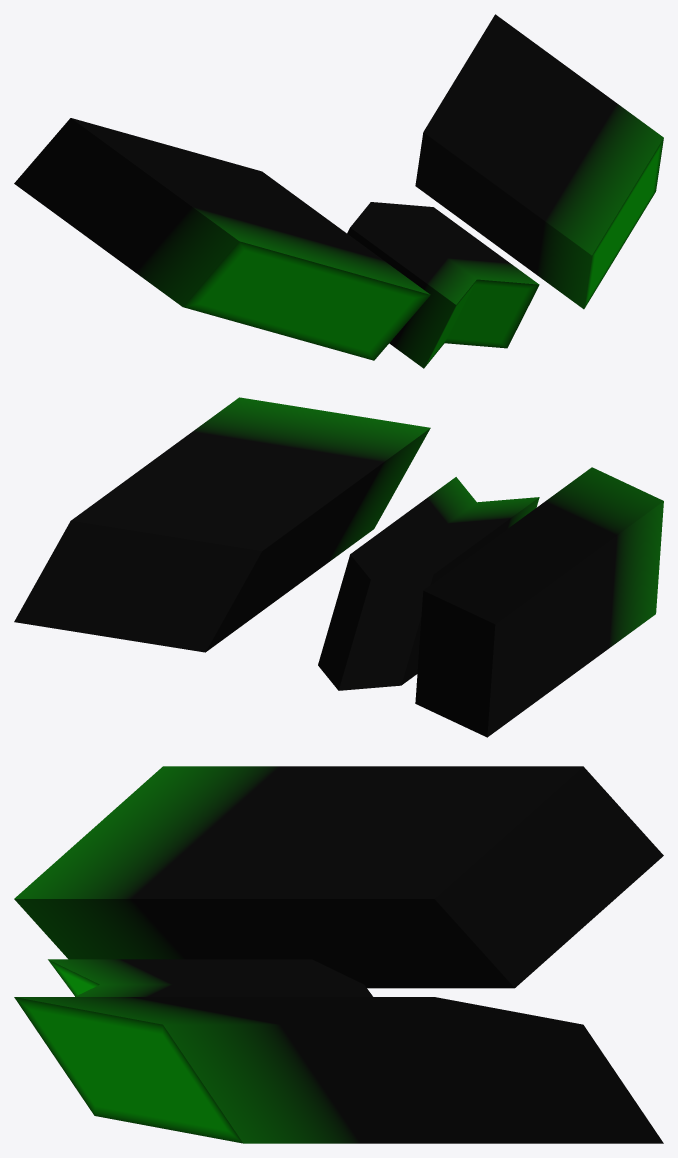
File: Eyes.fbx
The picture shows the model from 3 angles, top to bottom: view 1: azimuth 30°, elevation 25°; view 2: azimuth 150°, elevation 25°; view 3: azimuth 270°, elevation 25°; orthographic projection. The views are drawn at different scales.
Parts seen in each view (by area): view 1: Eyes; view 2: Eyes; view 3: Eyes.
Boxes of the visible parts, x1,y1,x2,y2 form: Eyes: (14,14,663,368); Eyes: (14,397,663,737); Eyes: (14,766,663,1143).
Size of the model in its own units: 20.7 by 6.64 by 19.75.
